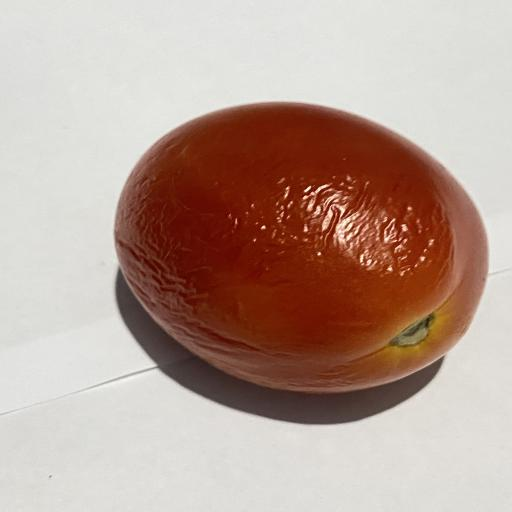spoiled: (115, 103, 487, 393)
